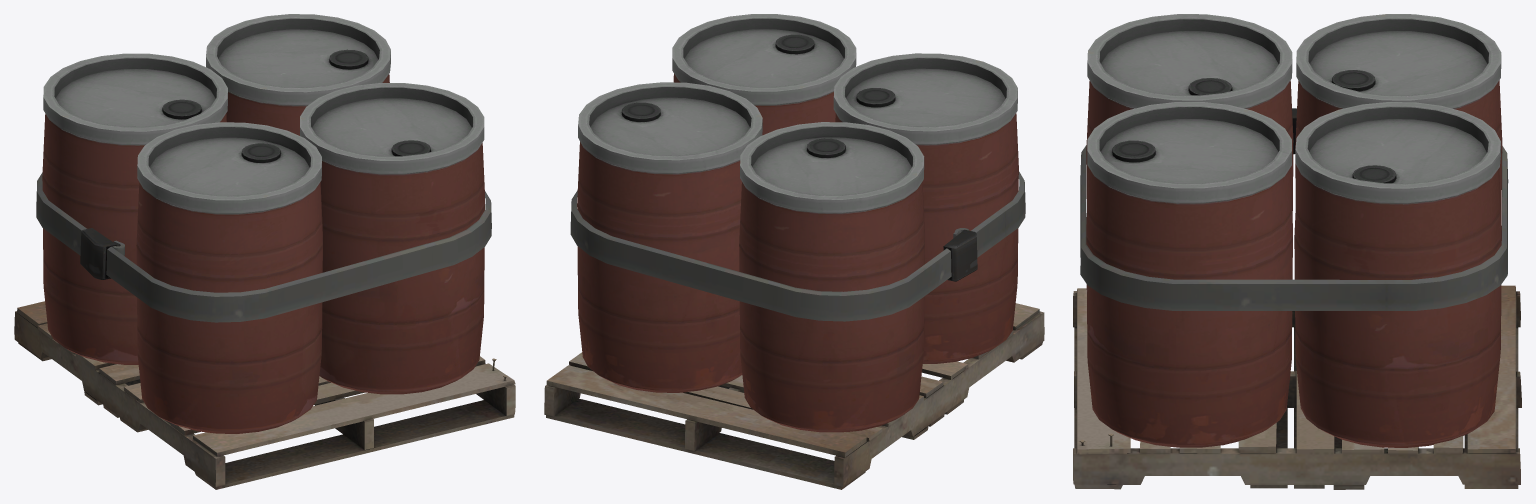
The model's file is barrel_cluster01b.glb.
The picture shows the model from 3 angles, left to right: view 1: azimuth 30°, elevation 25°; view 2: azimuth 150°, elevation 25°; view 3: azimuth 270°, elevation 25°; orthographic projection. The views are drawn at different scales.
Visible parts, largest first — view 1: barrel_cluster01b; view 2: barrel_cluster01b; view 3: barrel_cluster01b.
Boxes of the visible parts, x1,y1,x2,y2 form: barrel_cluster01b: [14, 14, 515, 489]; barrel_cluster01b: [544, 14, 1044, 489]; barrel_cluster01b: [1073, 14, 1521, 489].
Bounding box in the file's own units: 1.39 × 1.07 × 1.43.
2 materials, 2 textured.
